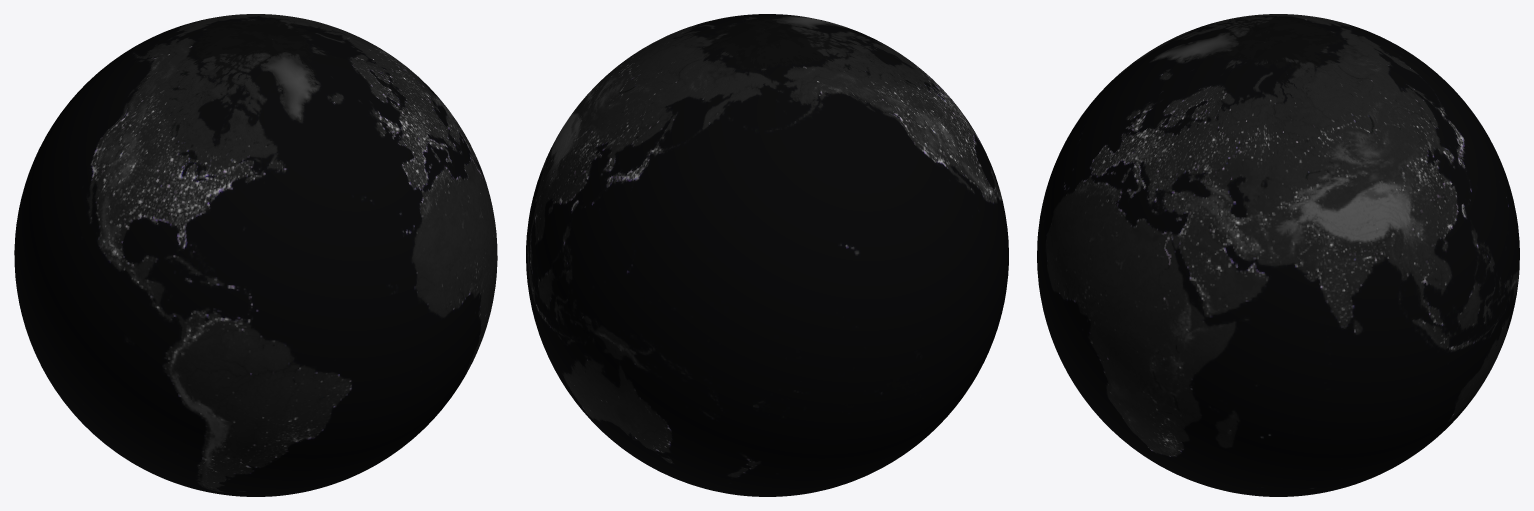
Rendered from map2.gltf.
3 renders of one model, left to right at view 1: azimuth 30°, elevation 25°; view 2: azimuth 150°, elevation 25°; view 3: azimuth 270°, elevation 25°, orthographic.
Visible parts, largest first — view 1: Earth; view 2: Earth; view 3: Earth.
Part boxes in pixels (x1,y1,x2,y2): Earth: (14, 14, 497, 496); Earth: (526, 14, 1008, 496); Earth: (1037, 14, 1519, 496).
Size of the model in its own units: 0.8484 by 0.8482 by 0.8483.
1 material, 1 textured.
